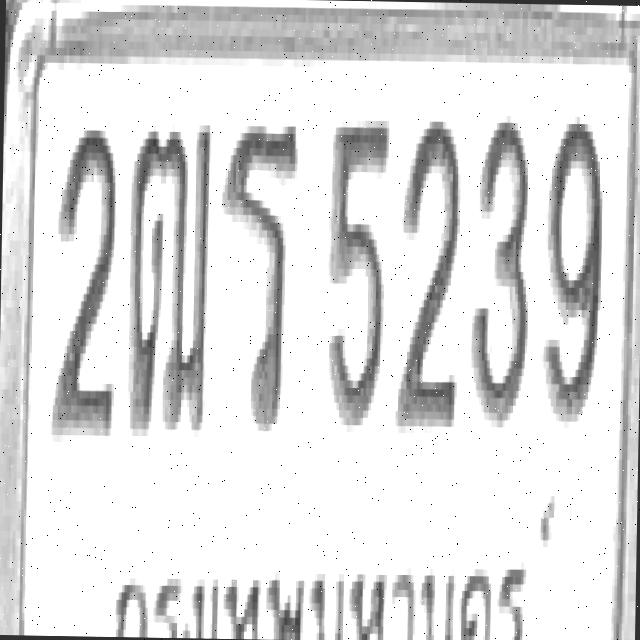2: (47, 118, 117, 440), (393, 113, 463, 434)
27ThorPhuThao: (124, 116, 212, 437)
3: (467, 110, 531, 424)
44RorRuea: (216, 114, 300, 435)
5: (324, 108, 391, 429)
9: (540, 112, 604, 425)
